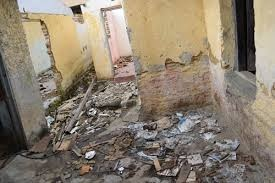rubble: (132, 117, 243, 183), (55, 80, 130, 130)
